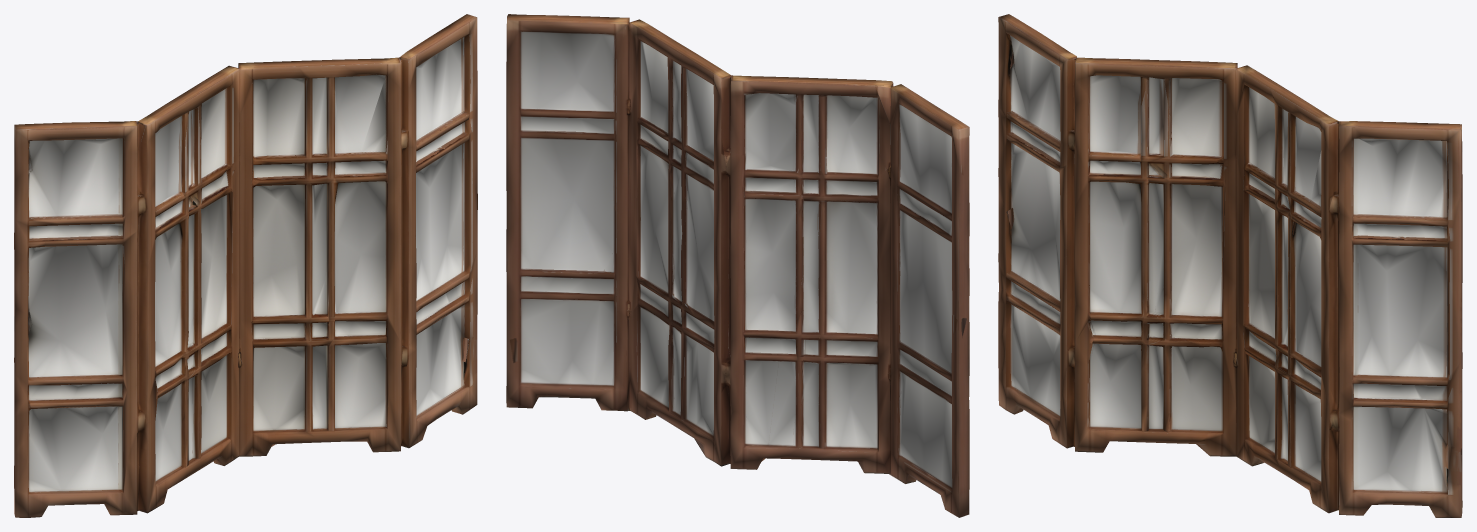
The model's file is Folding_Screen.glb.
3 views of the same model, side by side, from view 1: azimuth 30°, elevation 25°; view 2: azimuth 150°, elevation 25°; view 3: azimuth 330°, elevation 25° (orthographic).
Bounding box in the file's own units: 1.91 × 1.54 × 0.2934.
1 material, 1 textured.
